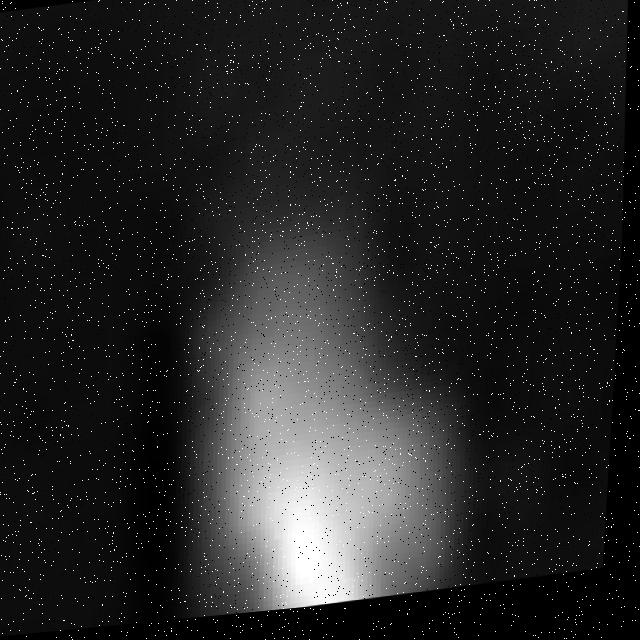person: (165, 161, 503, 626)
